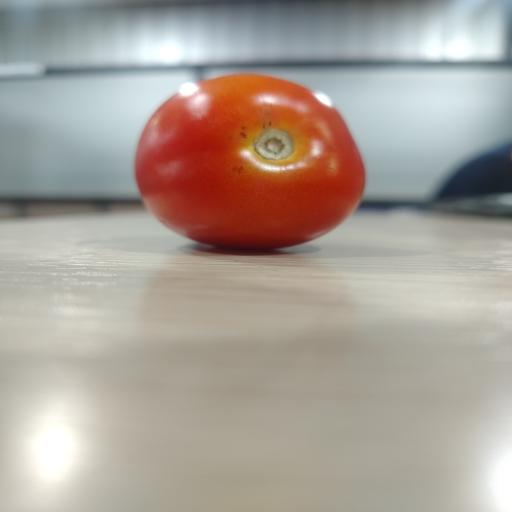ripe: (136, 75, 364, 249)
